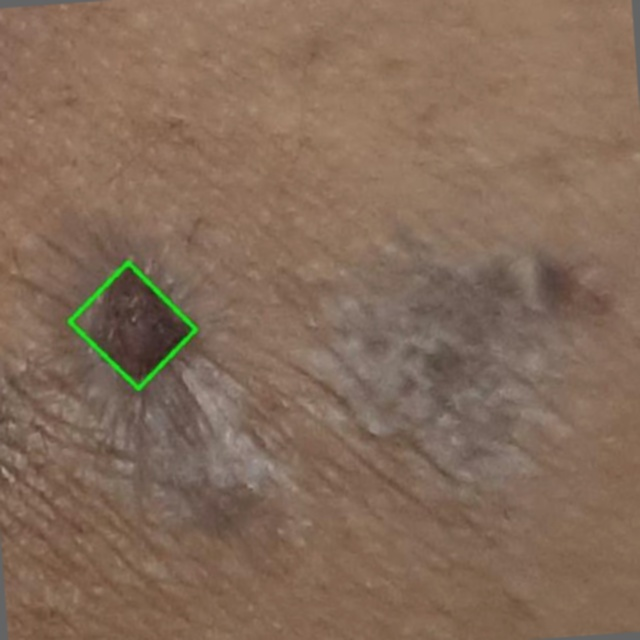Atopic Dermatitis: (69, 263, 195, 388)
